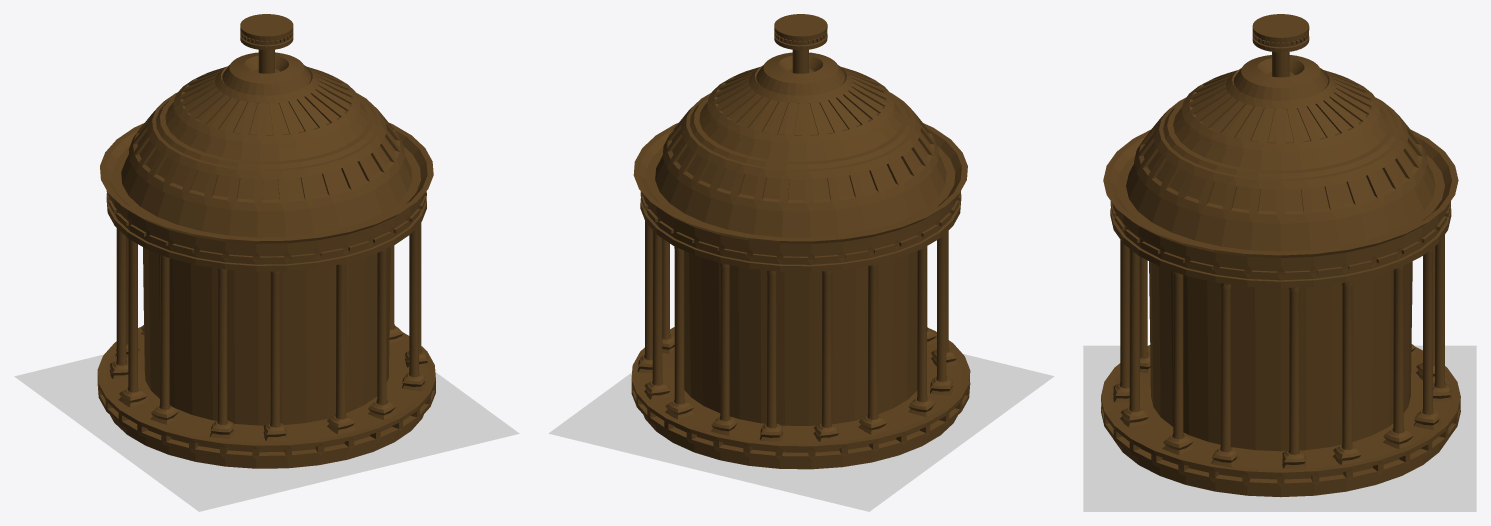
File: Templo.fbx
3 views of the same model, side by side, from view 1: azimuth 30°, elevation 25°; view 2: azimuth 150°, elevation 25°; view 3: azimuth 270°, elevation 25° (orthographic). The views are drawn at different scales.
Parts seen in each view (by area): view 1: Templo1; view 2: Templo1; view 3: Templo1.
Part boxes in pixels (x1,y1,x2,y2): Templo1: (14,14,519,511); Templo1: (548,14,1054,511); Templo1: (1083,14,1476,511).
Bounding box in the file's own units: 278 × 314 × 278.
